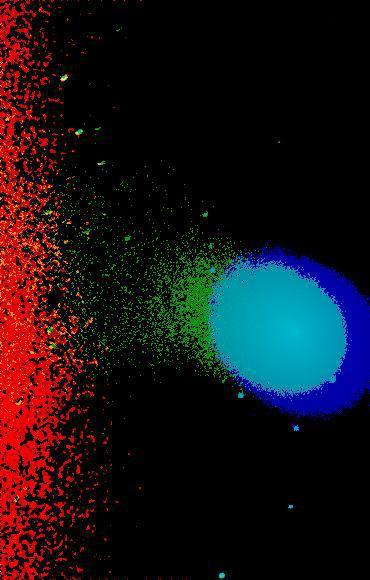star: (212, 368, 242, 398)
